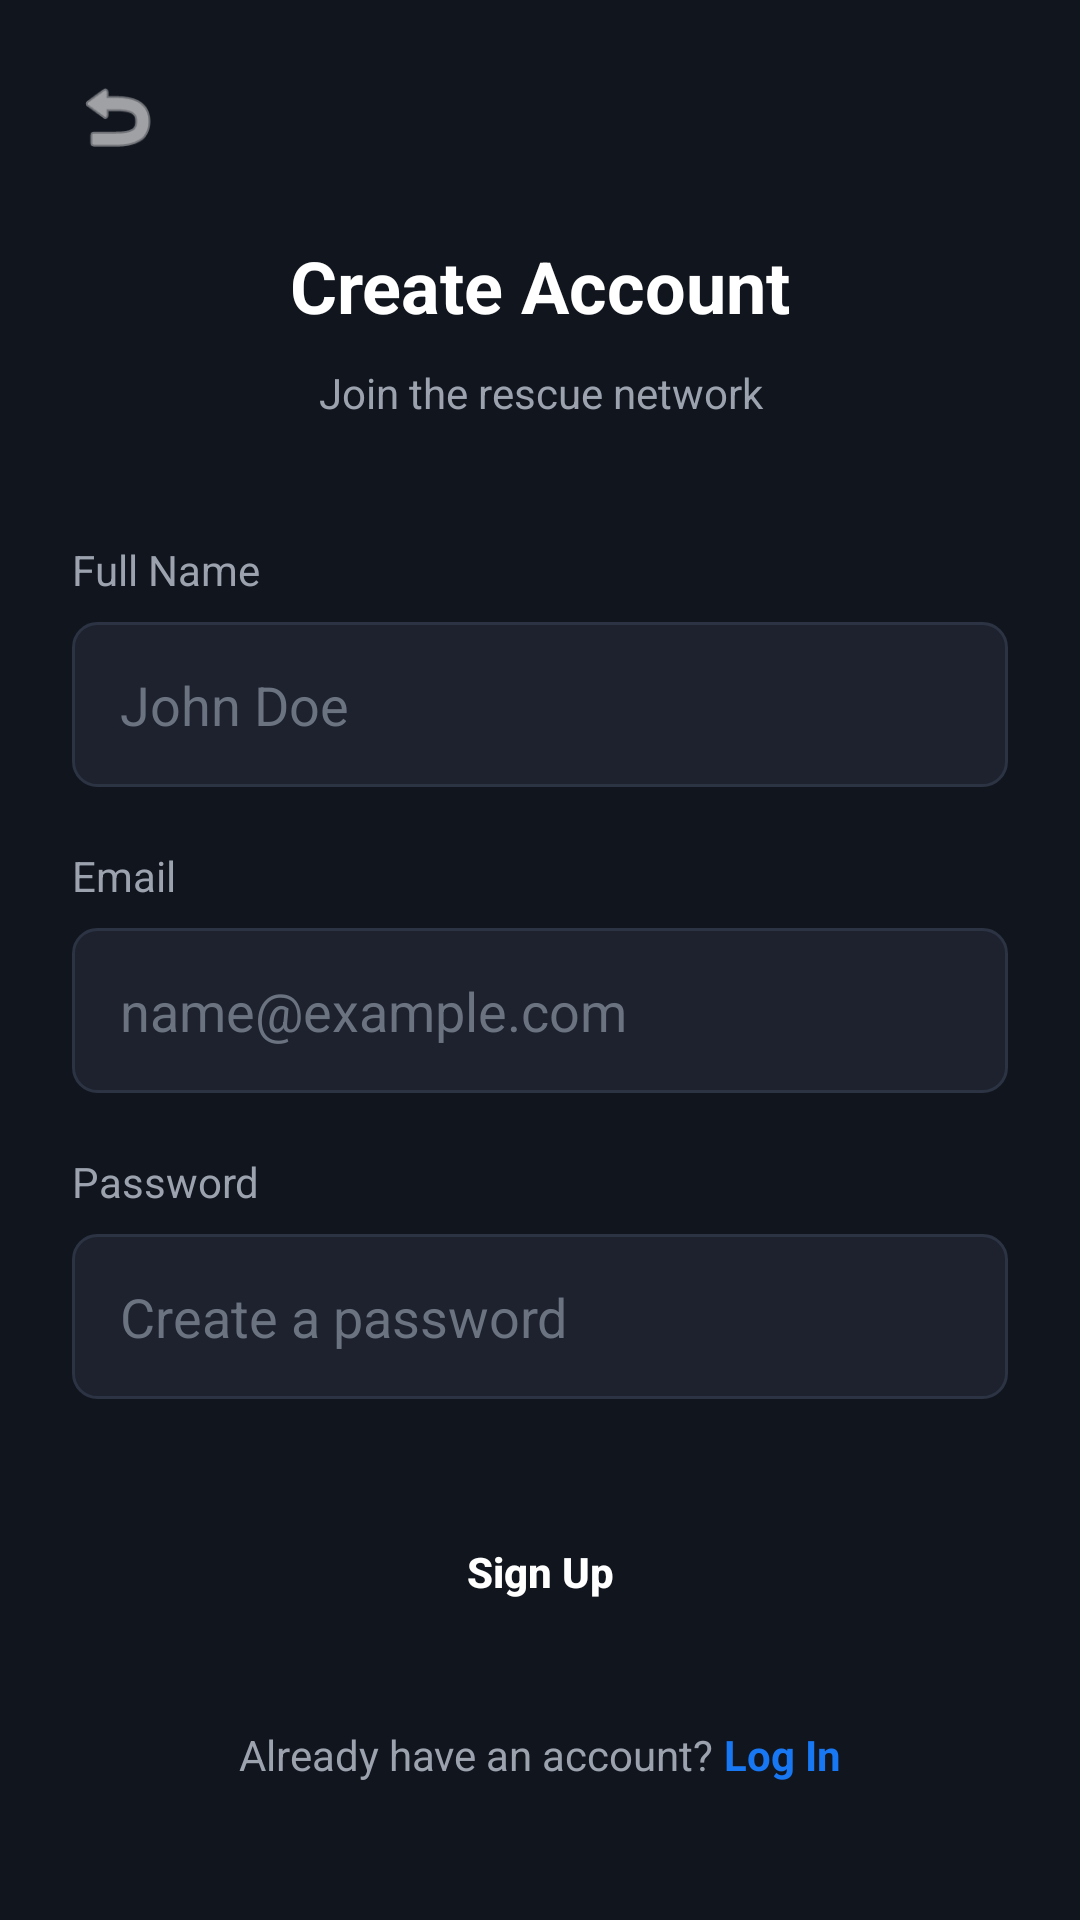

Icon bounding boxes for this 1080 × 1920 phone screenshot, format [left=x1, top=y1, right=x2, bottom=y2]:
revert: [left=86, top=88, right=151, bottom=147]
